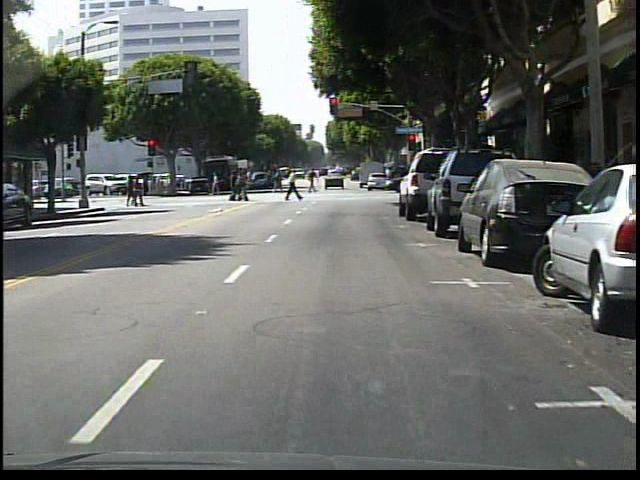person: (282, 166, 304, 204), (204, 167, 224, 197), (303, 167, 321, 196)
